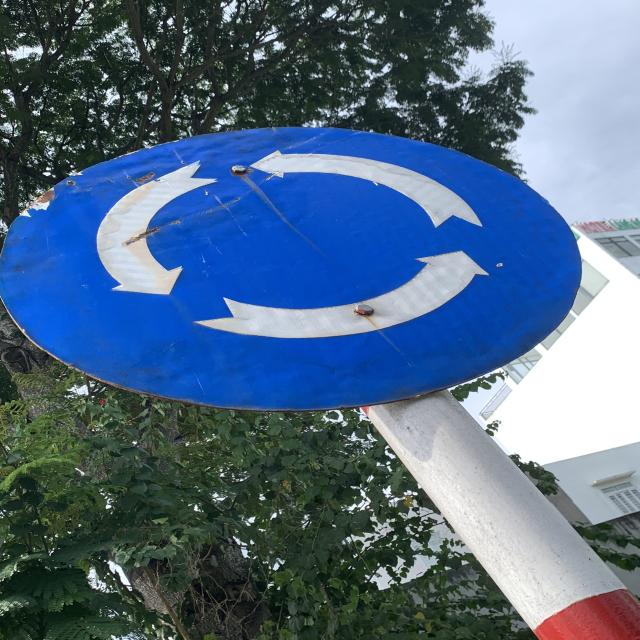Xe_Bus: (1, 122, 594, 409)
